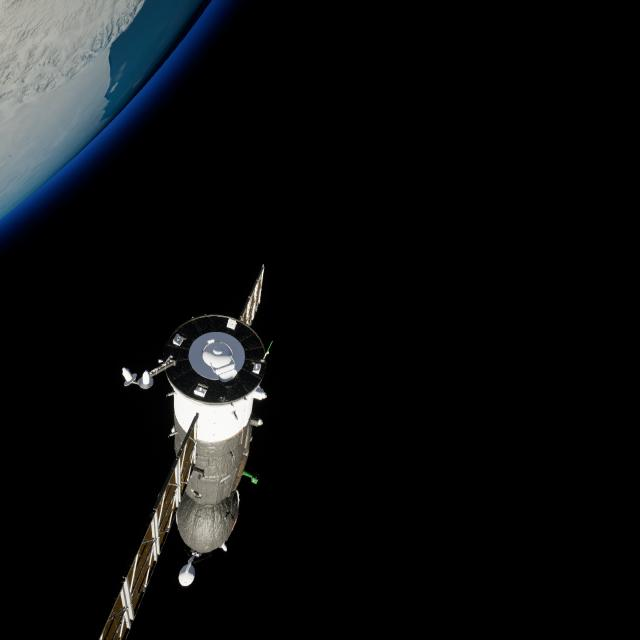Satellites revolving around earth: (98, 262, 274, 638)
